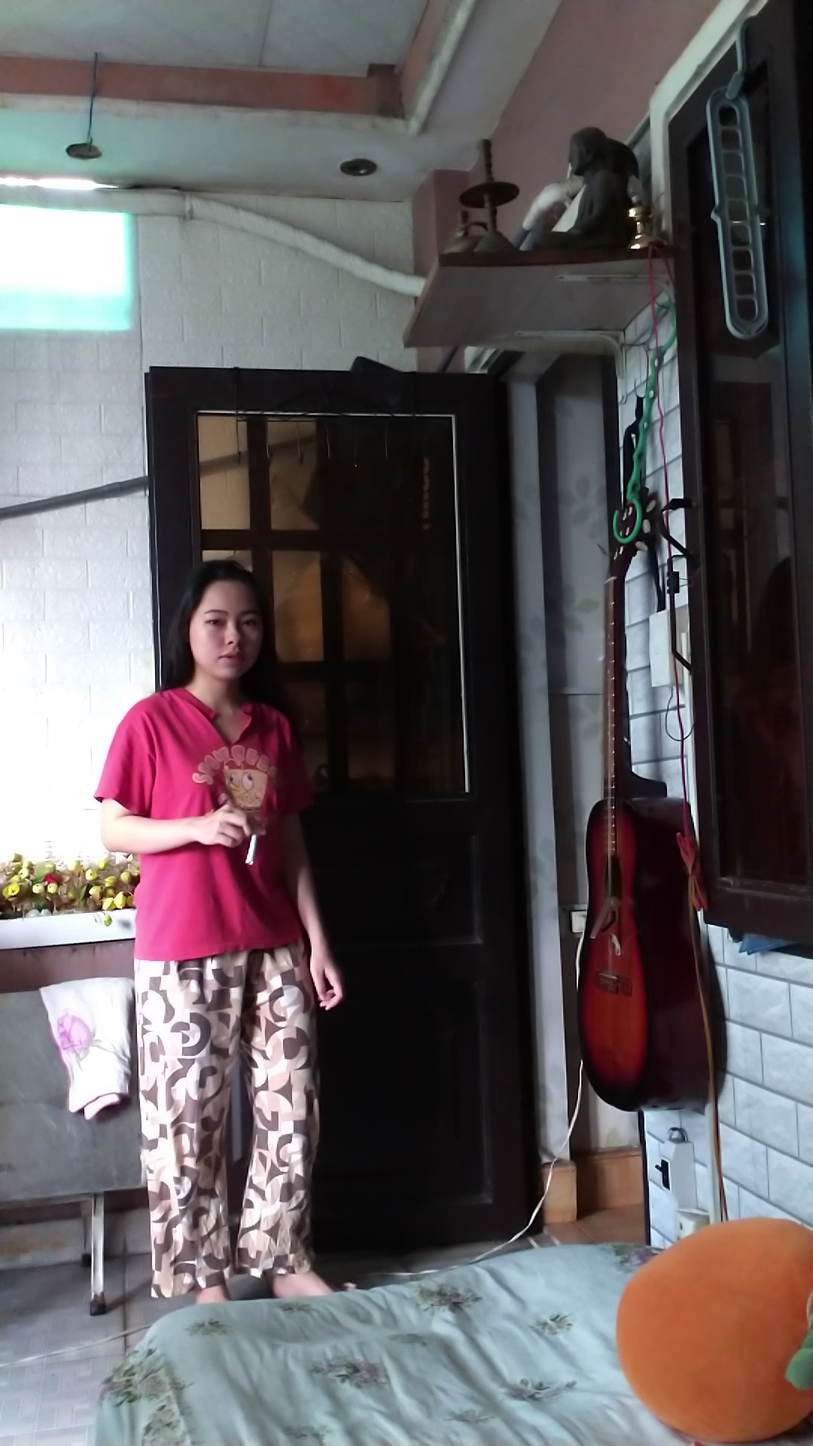cigarette: (241, 833, 262, 870)
person: (93, 543, 346, 1305)
